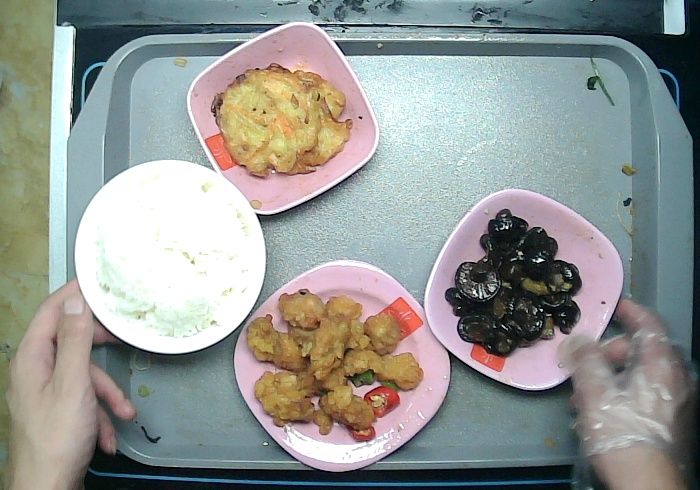SHKJ-Fan_Wan: (72, 158, 266, 353)
SHKJ-Fen_Se_Cai_Die: (421, 187, 624, 394)
SHKJ-Fen_Se_Si_Fang_Cai_Die: (231, 258, 451, 472)
SHKJ-Fen_Se_Xiao_Fang_Die: (184, 22, 379, 214)
